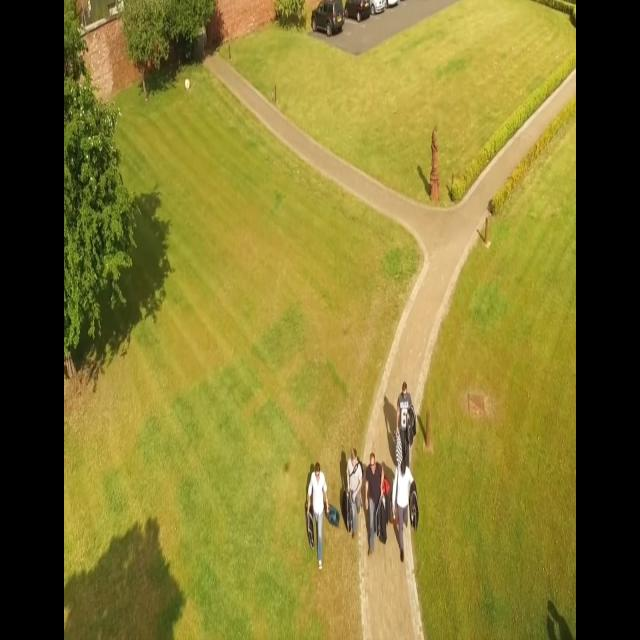humans: (304, 452, 330, 578), (364, 449, 388, 562), (392, 446, 414, 567), (345, 440, 363, 546), (394, 379, 415, 459)
